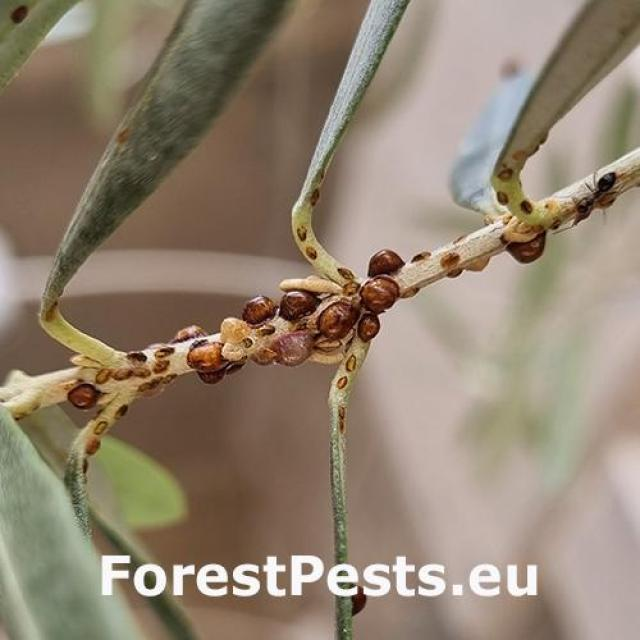BlackScale: (68, 244, 492, 411), (492, 130, 558, 262), (292, 169, 353, 285), (78, 403, 125, 482), (330, 354, 350, 451), (0, 0, 38, 38)
